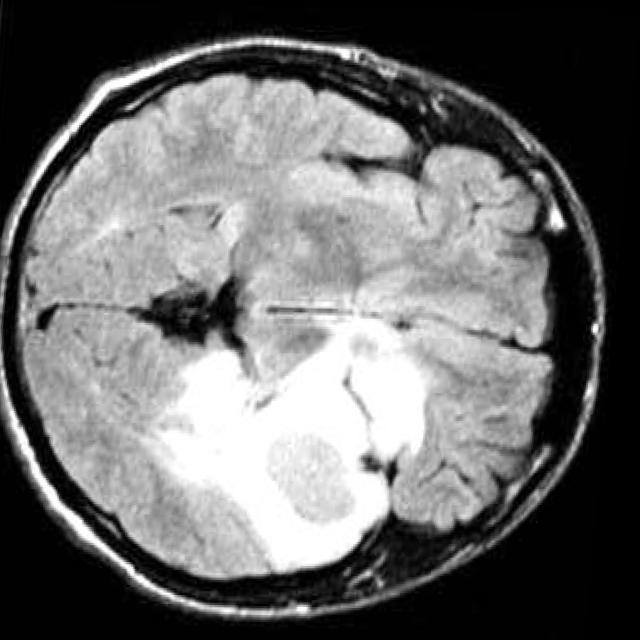Tumor: (274, 434, 361, 521)
